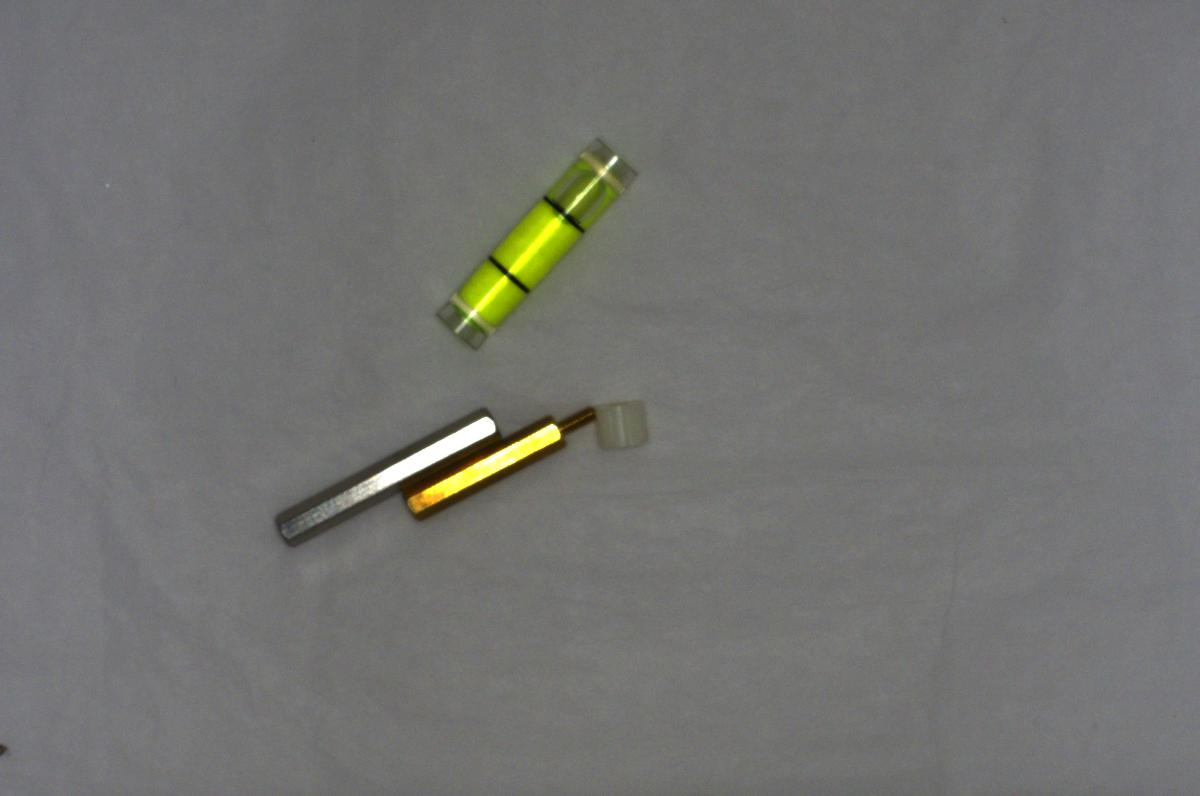Double hexagonal column: (266, 401, 505, 546)
Hexagon pillar: (399, 405, 601, 516)
Horizontal bubble: (432, 136, 639, 349)
Plastic cushion pillar: (584, 390, 655, 453)
